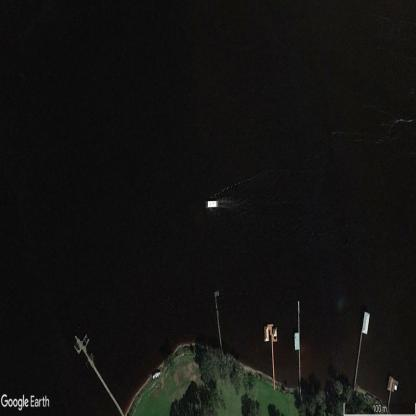ship: (206, 201, 218, 208)
